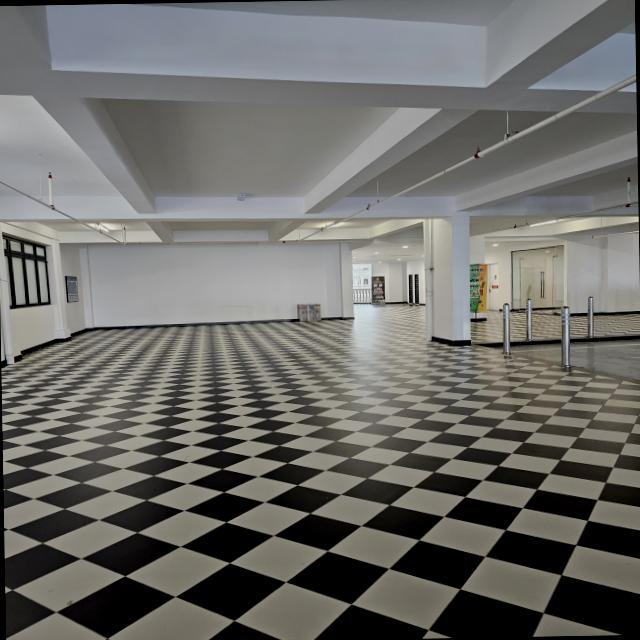footpath: (30, 351, 485, 640)
